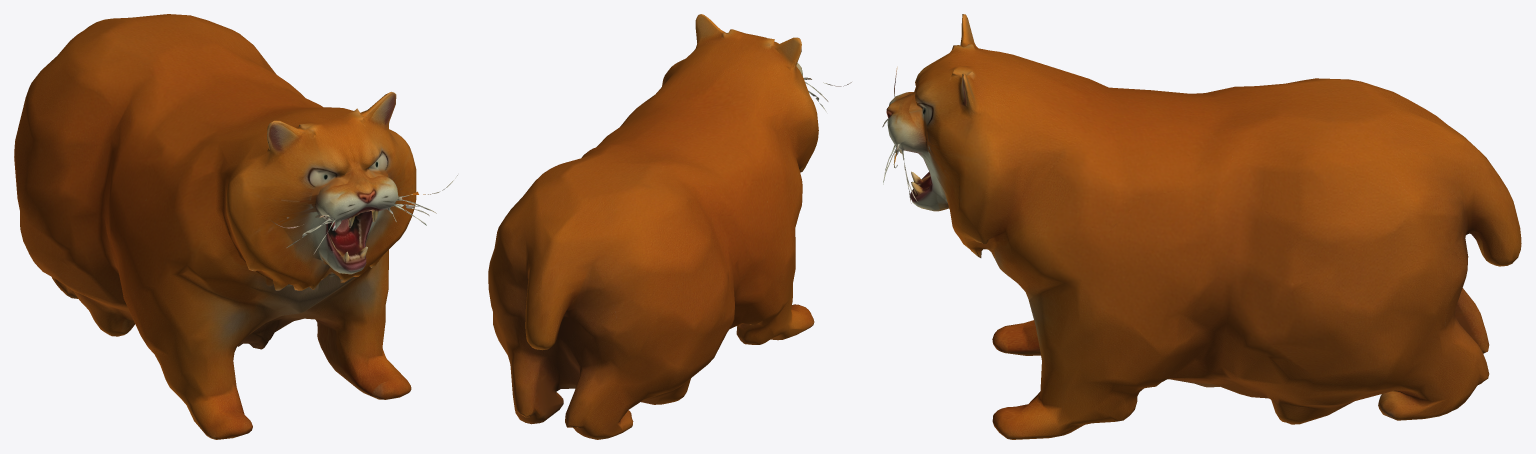
File: cat-4.glb
The picture shows the model from 3 angles, left to right: view 1: azimuth 30°, elevation 25°; view 2: azimuth 150°, elevation 25°; view 3: azimuth 270°, elevation 25°; orthographic projection. The views are drawn at different scales.
Size of the model in its own units: 0.9455 by 1.14 by 1.9.
1 material, 1 textured.
